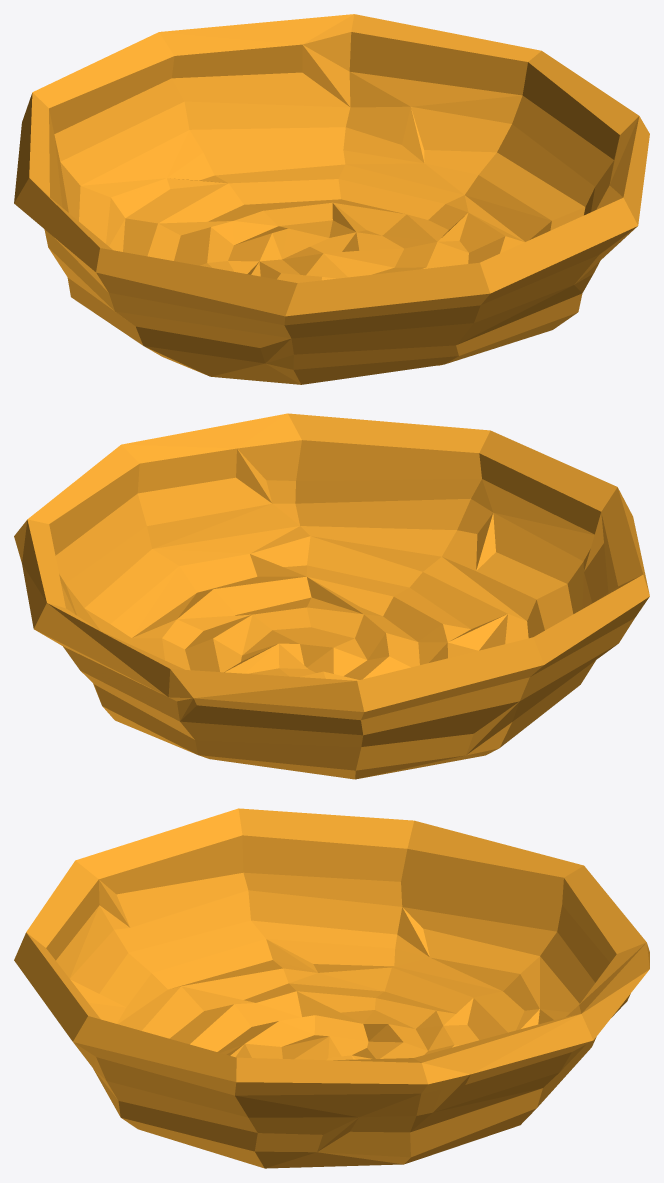
File: SM_Basket_G_Farm.fbx
3 renders of one model, top to bottom at view 1: azimuth 30°, elevation 25°; view 2: azimuth 150°, elevation 25°; view 3: azimuth 270°, elevation 25°, orthographic. The views are drawn at different scales.
Parts seen in each view (by area): view 1: basket-g-farm; view 2: basket-g-farm; view 3: basket-g-farm.
Boxes of the visible parts, box(x1,y1,x2,y2) form: basket-g-farm: box(14, 14, 649, 384); basket-g-farm: box(14, 413, 649, 779); basket-g-farm: box(14, 808, 649, 1168).
Size of the model in its own units: 0.4757 by 0.1192 by 0.4954.
